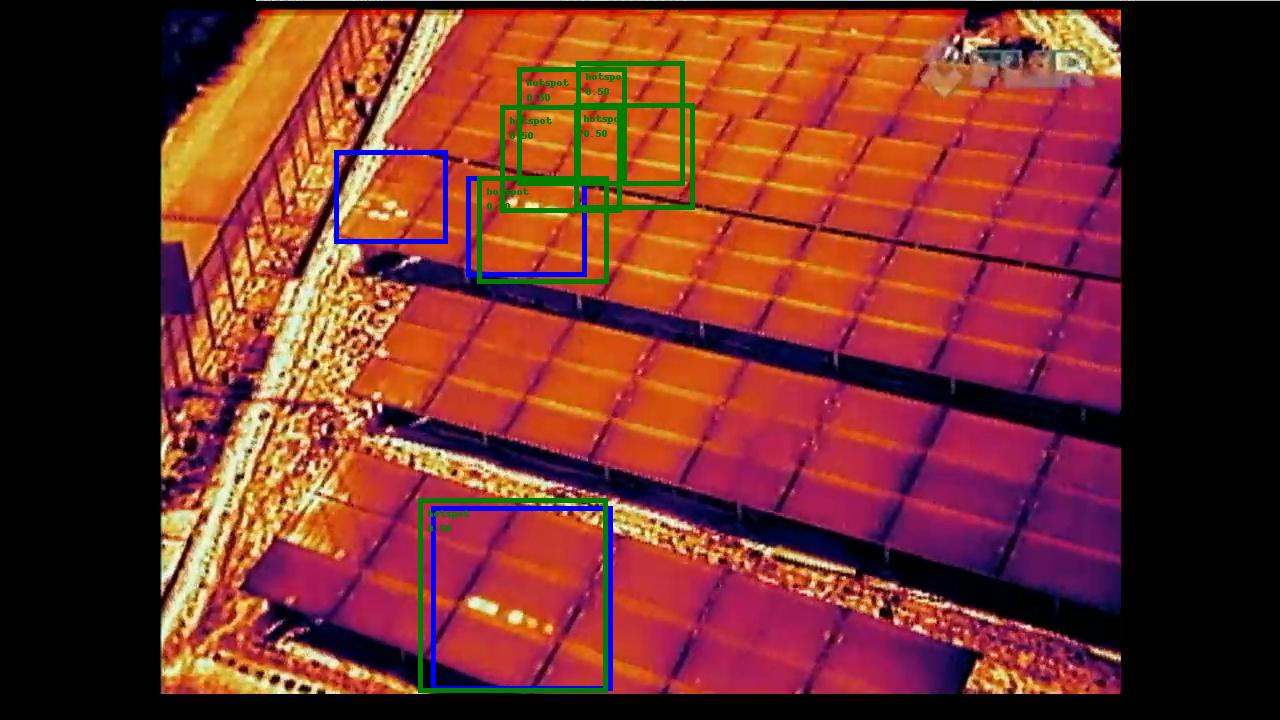hotspot: (431, 506, 612, 690), (466, 176, 586, 276), (334, 150, 447, 243)
